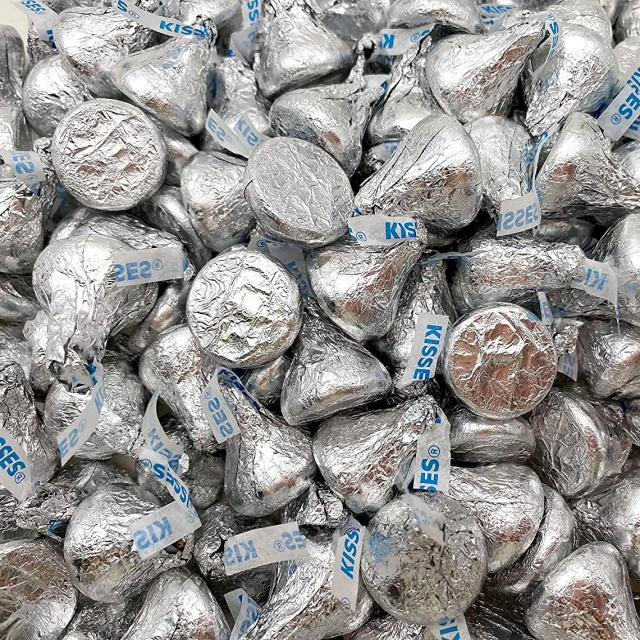kisses: (306, 378, 452, 520), (194, 368, 323, 518), (358, 488, 490, 624), (240, 522, 380, 640), (59, 495, 195, 616), (48, 88, 173, 216), (188, 242, 305, 376), (29, 236, 154, 358), (440, 297, 562, 420), (412, 12, 551, 113), (356, 117, 487, 217), (519, 538, 638, 640), (528, 127, 637, 236), (243, 2, 355, 108), (280, 318, 381, 431), (247, 140, 356, 244), (544, 371, 628, 498), (106, 36, 218, 127), (533, 26, 625, 135)
